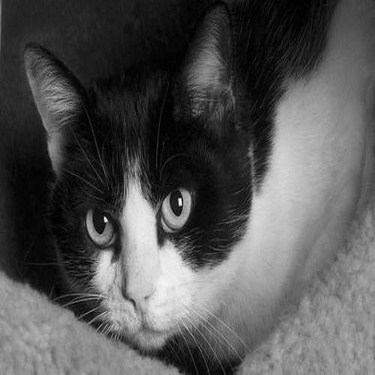cat: (19, 8, 370, 371)
